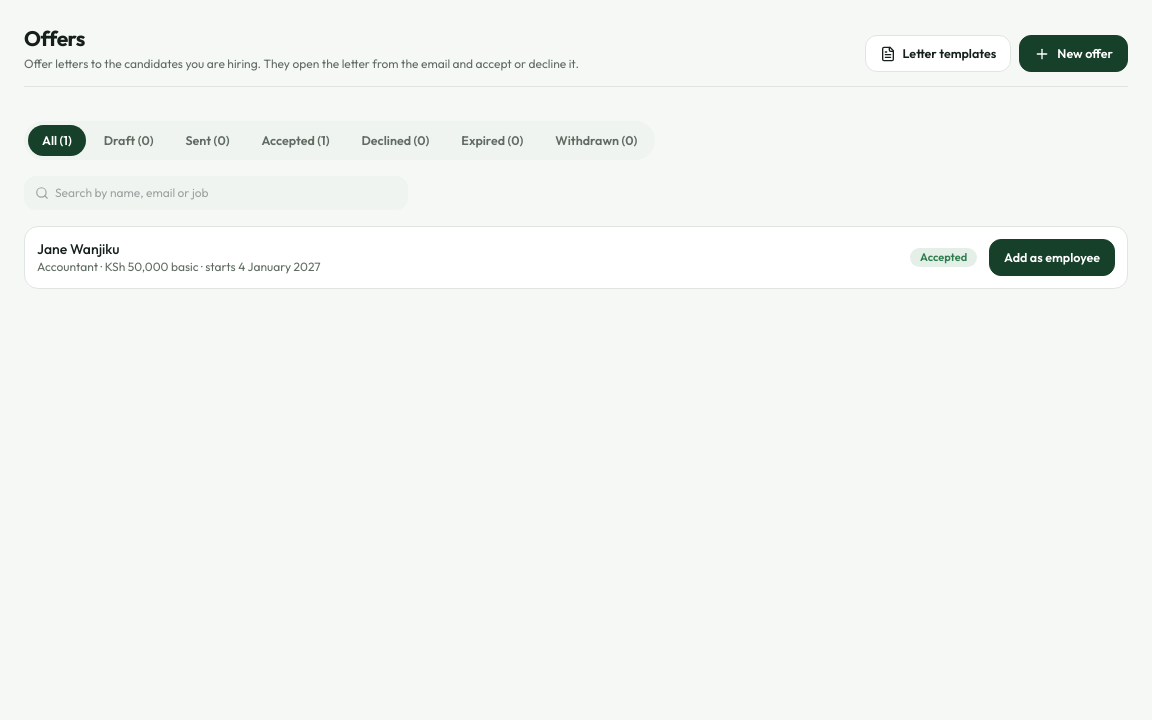
Test case: signed offers › an accepted offer shows the candidate’s signature, and the signed letter is kept once
The image size is (1152, 720).
Later steps or results of the test are not shown.
Expected: the text "Jane Wanjiku" is shown, left=37, top=240, right=120, bottom=258
Step 1. Click the button "Add as employee" → click(1052, 257), box left=989, top=239, right=1115, bottom=276
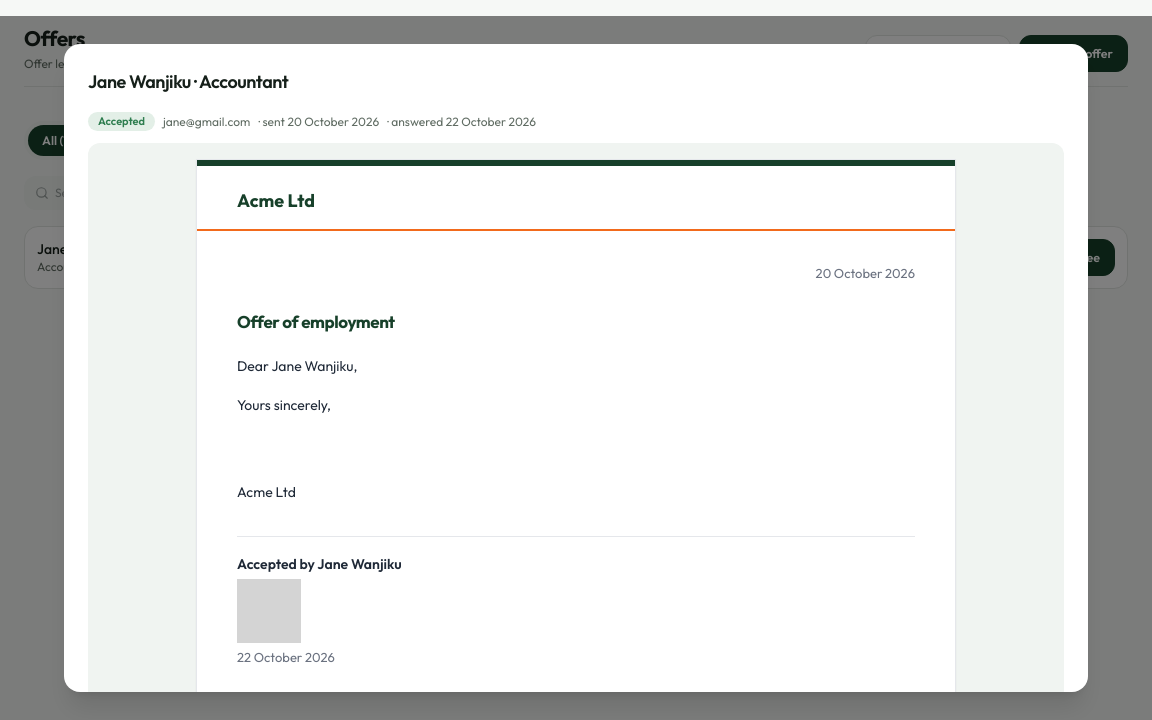
Result: the text "Accepted by Jane Wanjiku" is shown at left=237, top=554, right=402, bottom=572
